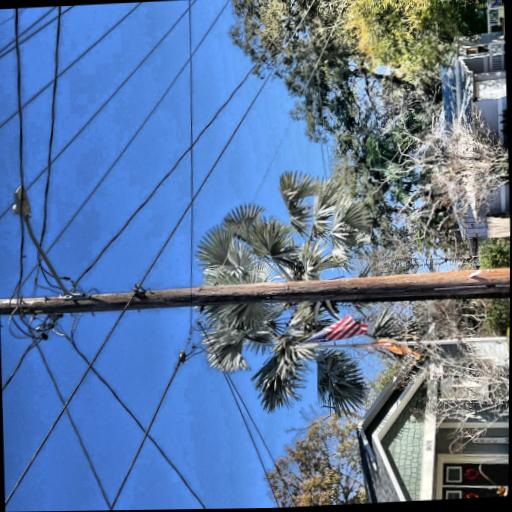pole: (55, 11, 116, 511)
street light: (78, 155, 194, 252)
